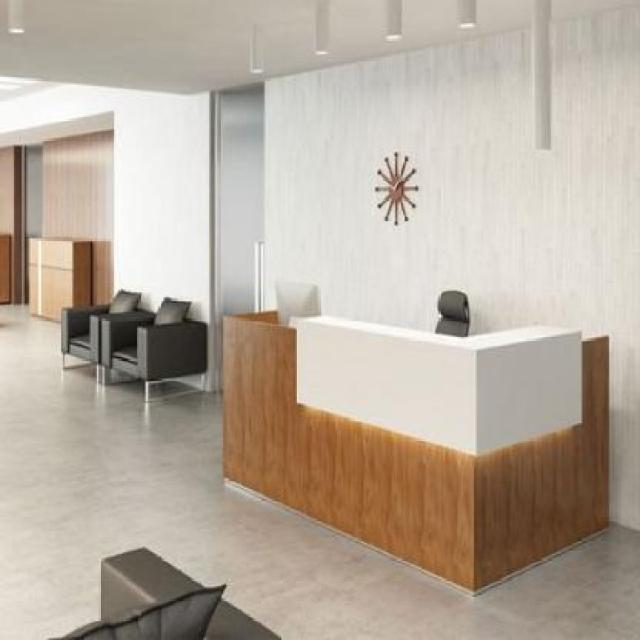frontdesk: (214, 266, 618, 605)
